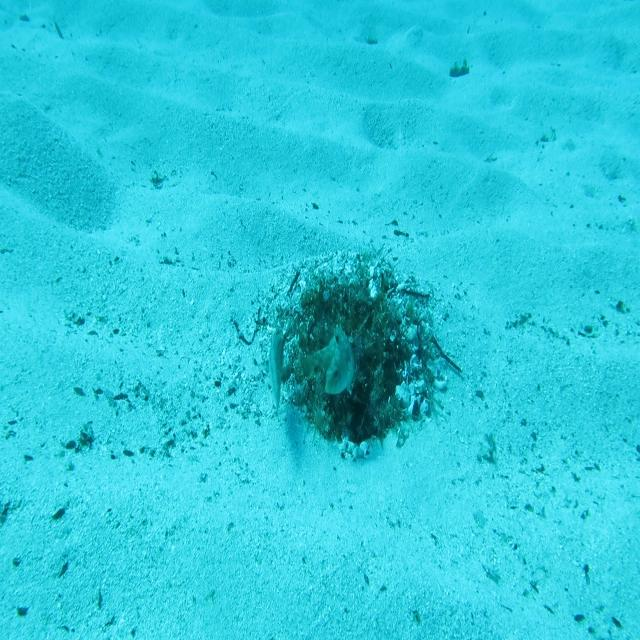DAN_CIRC: (298, 314, 360, 399)
core_nest: (326, 293, 372, 342)
female: (267, 329, 289, 430)
nest: (246, 234, 452, 483)
vegetation: (448, 59, 472, 80)
